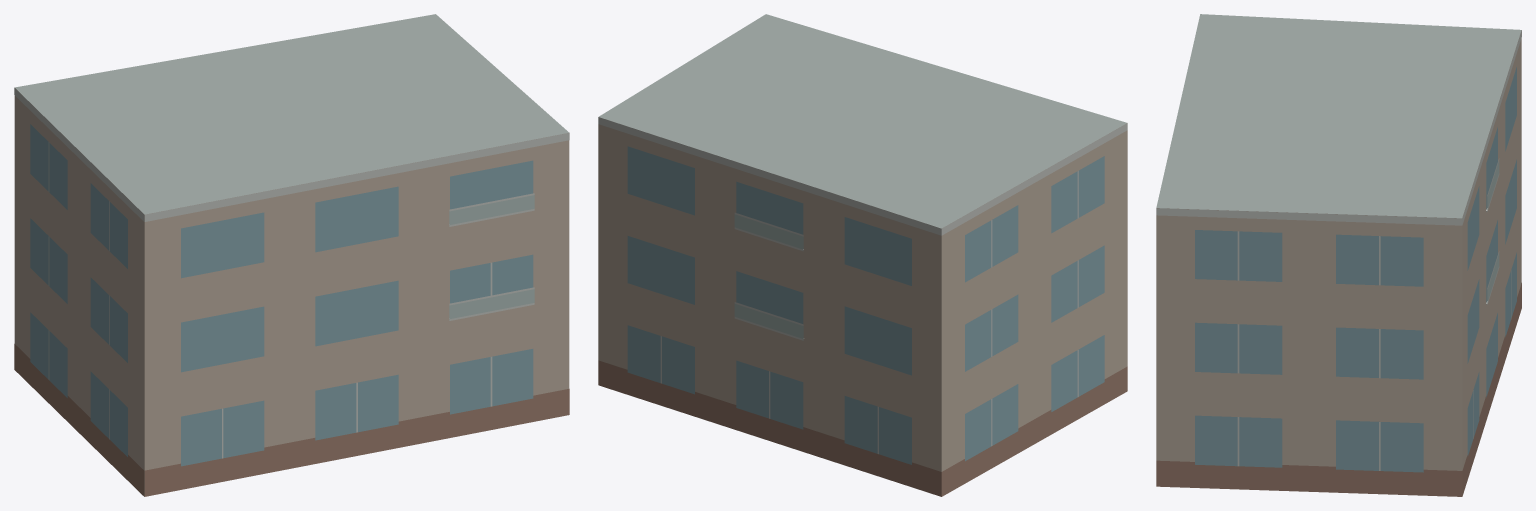
The model's file is survey-upis-32479660.glb.
The picture shows the model from 3 angles, left to right: view 1: azimuth 30°, elevation 25°; view 2: azimuth 150°, elevation 25°; view 3: azimuth 270°, elevation 25°; orthographic projection. The views are drawn at different scales.
Visible parts, largest first — view 1: survey-upis-32479660.tmp; view 2: survey-upis-32479660.tmp; view 3: survey-upis-32479660.tmp.
Part boxes in pixels (box(x1,y1,x2,y2)): survey-upis-32479660.tmp: box(14, 14, 569, 496); survey-upis-32479660.tmp: box(598, 14, 1127, 496); survey-upis-32479660.tmp: box(1156, 14, 1521, 496).
Bounding box in the file's own units: 14.4 × 9.15 × 10.89.
